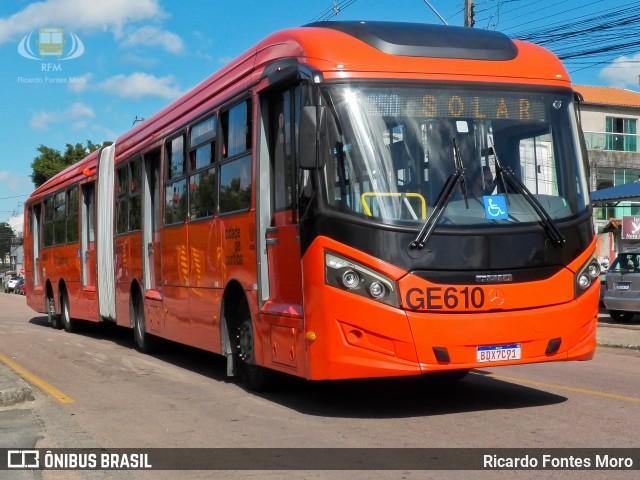SOLAR: (415, 91, 537, 123)
